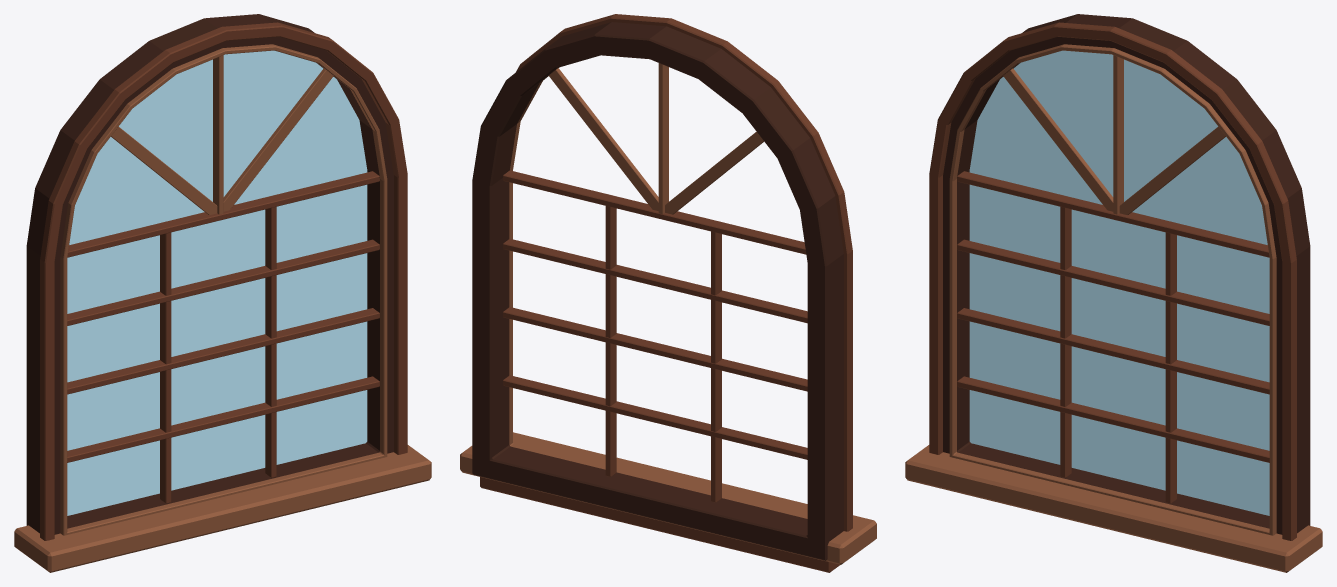
File: window_08.glb
3 renders of one model, left to right at view 1: azimuth 30°, elevation 25°; view 2: azimuth 150°, elevation 25°; view 3: azimuth 330°, elevation 25°, orthographic.
Parts seen in each view (by area): view 1: Glass, Deep_frame, Raised_moulding, Sill, Inner_bead, Transom_1, Transom_2, Transom_3, Transom_4, Mullion_1, Mullion_2, Fan_ray_1 (+2 smaller); view 2: Deep_frame, Raised_moulding, Sill, Sill_apron, Transom_1, Transom_2, Transom_3, Transom_4, Mullion_2, Mullion_1, Inner_bead, Fan_ray_1 (+2 smaller); view 3: Glass, Deep_frame, Raised_moulding, Sill, Inner_bead, Transom_1, Transom_2, Transom_3, Transom_4, Mullion_2, Mullion_1, Fan_ray_3 (+2 smaller).
Boxes of the visible parts, bbox=[...] form: Glass: bbox=[67, 50, 367, 515]; Deep_frame: bbox=[26, 14, 393, 534]; Raised_moulding: bbox=[40, 22, 407, 540]; Sill: bbox=[14, 445, 431, 572]; Inner_bead: bbox=[60, 44, 387, 535]; Transom_1: bbox=[67, 376, 379, 462]; Transom_2: bbox=[67, 308, 379, 394]; Transom_3: bbox=[67, 239, 379, 325]; Transom_4: bbox=[67, 171, 379, 257]; Mullion_1: bbox=[160, 232, 171, 503]; Mullion_2: bbox=[265, 207, 276, 477]; Fan_ray_1: bbox=[216, 68, 333, 212]; Deep_frame: bbox=[472, 22, 843, 560]; Raised_moulding: bbox=[516, 14, 852, 531]; Sill: bbox=[460, 432, 876, 564]; Sill_apron: bbox=[480, 477, 839, 572]; Transom_1: bbox=[503, 375, 807, 459]; Transom_2: bbox=[503, 307, 807, 391]; Transom_3: bbox=[503, 238, 807, 323]; Transom_4: bbox=[503, 170, 806, 254]; Mullion_2: bbox=[605, 206, 616, 476]; Mullion_1: bbox=[711, 231, 721, 502]; Inner_bead: bbox=[509, 76, 807, 518]; Fan_ray_1: bbox=[548, 68, 665, 211]; Glass: bbox=[969, 50, 1269, 515]; Deep_frame: bbox=[943, 14, 1310, 534]; Raised_moulding: bbox=[929, 22, 1296, 540]; Sill: bbox=[905, 445, 1322, 572]; Inner_bead: bbox=[949, 44, 1276, 535]; Transom_1: bbox=[957, 376, 1269, 462]; Transom_2: bbox=[957, 308, 1269, 394]; Transom_3: bbox=[957, 239, 1269, 325]; Transom_4: bbox=[957, 171, 1269, 257]; Mullion_2: bbox=[1165, 232, 1176, 503]; Mullion_1: bbox=[1060, 207, 1071, 477]; Fan_ray_3: bbox=[1003, 68, 1120, 212].
Bounding box in the file's own units: 2.38 × 2.97 × 0.405.
